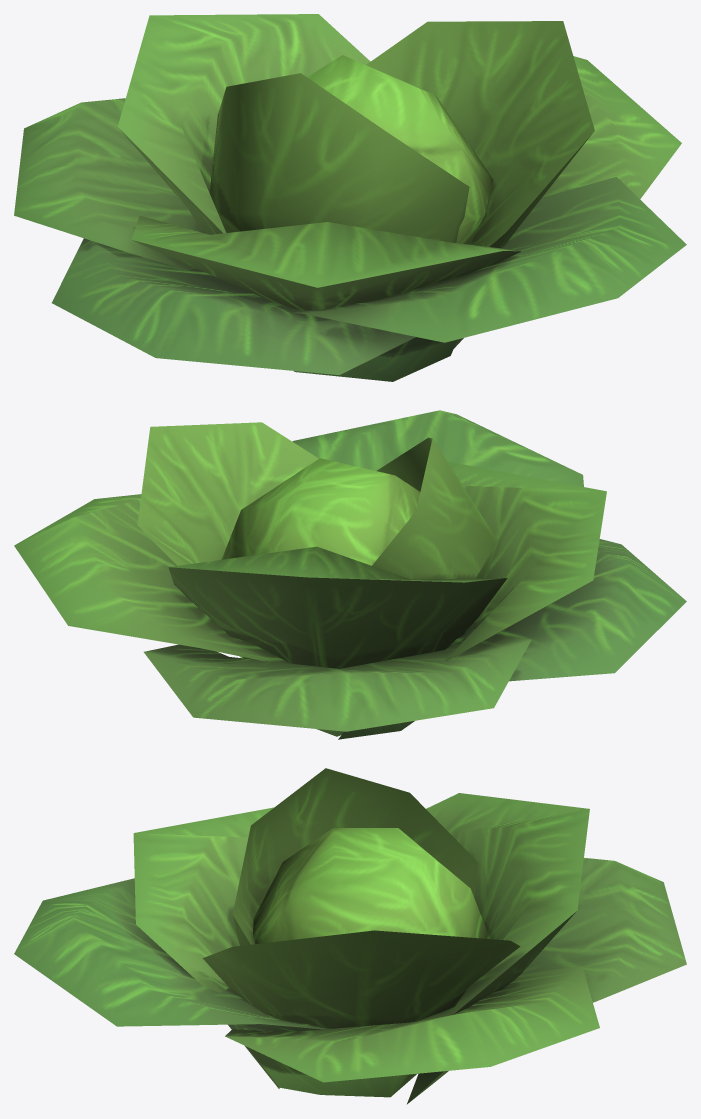
File: cabbage_3.FBX
3 renders of one model, top to bottom at view 1: azimuth 30°, elevation 25°; view 2: azimuth 150°, elevation 25°; view 3: azimuth 270°, elevation 25°, orthographic. The views are drawn at different scales.
Visible parts, largest first — view 1: cabbage_3; view 2: cabbage_3; view 3: cabbage_3.
Boxes of the visible parts, <box> form: cabbage_3: <box>14,14,686,381</box>; cabbage_3: <box>14,410,686,739</box>; cabbage_3: <box>14,768,686,1104</box>.
Size of the model in its own units: 31.17 by 14.66 by 33.08.
1 material, 1 textured.
